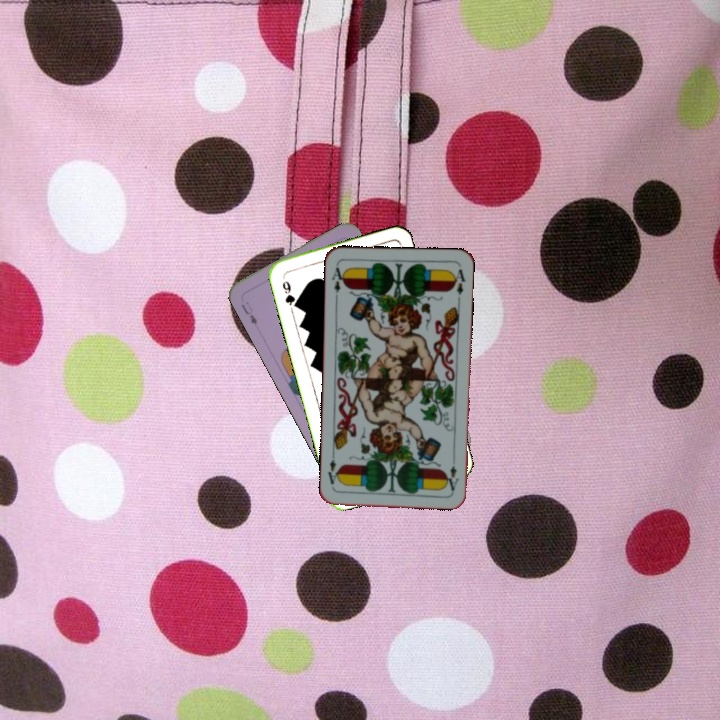EA: (328, 261, 348, 301), (444, 461, 461, 493)
EU: (237, 297, 260, 328)
G9: (278, 276, 300, 311)
